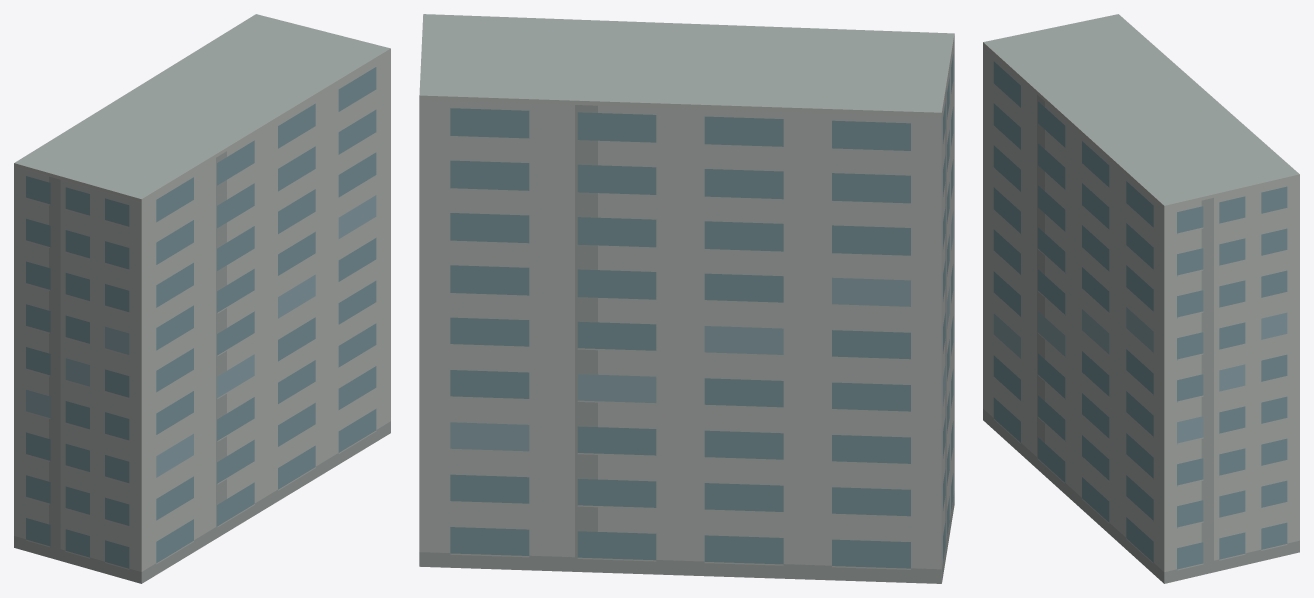
The model's file is residential-1f19a4ff-5b1a-4de7-ad76-ff8a03a2a458.glb.
3 views of the same model, side by side, from view 1: azimuth 30°, elevation 25°; view 2: azimuth 150°, elevation 25°; view 3: azimuth 270°, elevation 25° (orthographic). The views are drawn at different scales.
Parts seen in each view (by area): view 1: residential-1f19a4ff-5b1a-4de7-ad76-ff8a03a2a458.tmp; view 2: residential-1f19a4ff-5b1a-4de7-ad76-ff8a03a2a458.tmp; view 3: residential-1f19a4ff-5b1a-4de7-ad76-ff8a03a2a458.tmp.
Part boxes in pixels (x1,y1,x2,y2): residential-1f19a4ff-5b1a-4de7-ad76-ff8a03a2a458.tmp: (14,14,390,583); residential-1f19a4ff-5b1a-4de7-ad76-ff8a03a2a458.tmp: (419,14,954,583); residential-1f19a4ff-5b1a-4de7-ad76-ff8a03a2a458.tmp: (983,14,1299,583).
Bounding box in the file's own units: 29.4 × 27 × 20.52.
